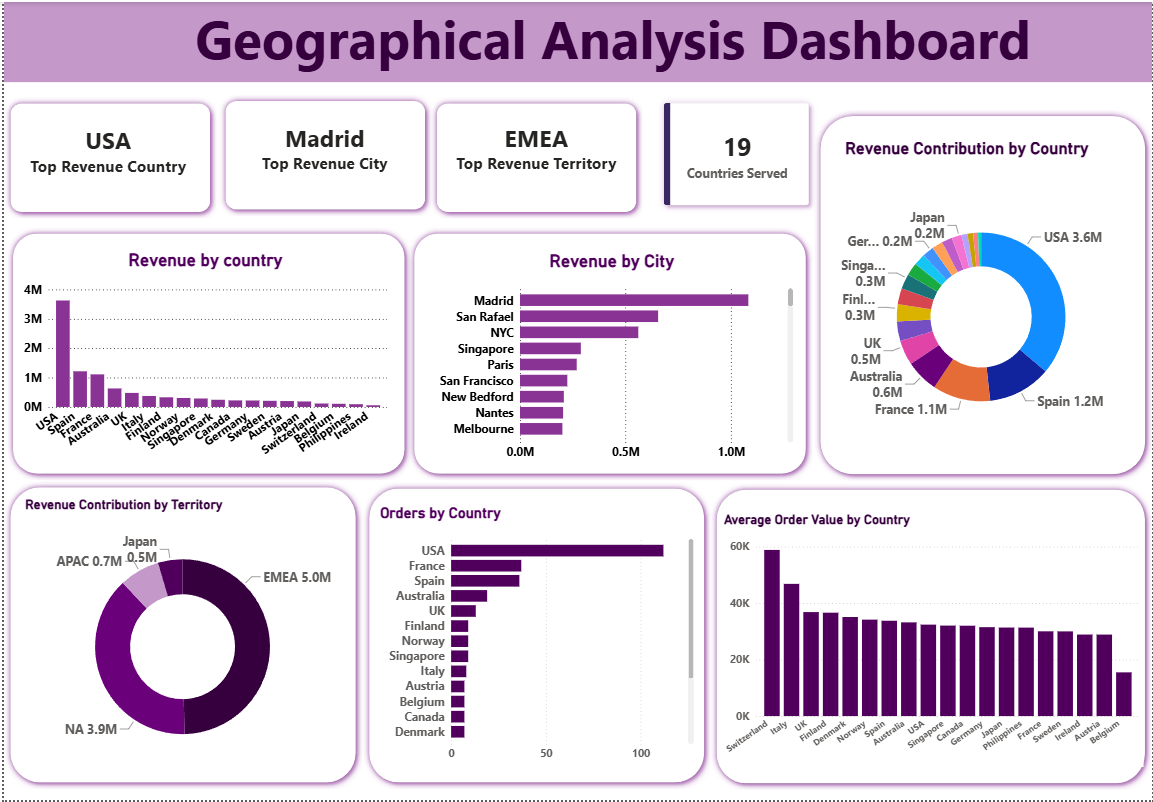

This screenshot's page, from the dashboard's own definition file:
{"tool":"powerbi","page":{"name":"Geographical Analysis Dashboard","canvas":[1582,1100],"ordinal":3},"visuals":[{"type":"textbox","box":[10,0,280,280],"z":0},{"type":"shape","box":[0,131.1,292.9,167.4],"z":1000},{"type":"shape","box":[296.5,127.3,292.9,167.4],"z":2000},{"type":"shape","box":[587.3,131.1,292.9,167.4],"z":3000},{"type":"textbox","box":[22.8,163.4,242.4,101],"z":4000},{"type":"textbox","box":[319.3,159.6,246.8,101],"z":5000},{"type":"textbox","box":[602.5,159.6,261.6,102.8],"z":6000},{"type":"cardVisual","fields":{"Data":["Measures (2).Countries Served"]},"box":[879.9,110.2,258.4,199.6],"z":7000},{"type":"shape","box":[3.8,309.8,557.4,348.8],"z":8000},{"type":"clusteredColumnChart","title":"Revenue by country","fields":{"Y":["Measures (2).Total Revenue"],"Category":["Customers.country"]},"box":[22.8,340.2,510.7,298.9],"z":9000},{"type":"shape","box":[556.8,309.8,557.4,348.8],"z":10000},{"type":"barChart","title":"Revenue by City","fields":{"Category":["Customers.city"],"Y":["Measures (2).Total Revenue"]},"box":[581.6,342.1,510.7,298.9],"z":11000},{"type":"shape","box":[0,659.5,493.4,424.7],"z":12000},{"type":"donutChart","title":"Revenue Contribution by Territory","fields":{"Category":["Customers.territory"],"Y":["Measures (2).Total Revenue"]},"box":[24.7,682.3,444.1,380.7],"z":13000},{"type":"shape","box":[494.1,661.4,479.3,422.9],"z":14000},{"type":"clusteredBarChart","title":"Orders by  Country","fields":{"Y":["Measures (2).Total Orders"],"Category":["Customers.country"]},"box":[513.1,691.8,442.3,363],"z":15000},{"type":"shape","box":[973.1,663.3,607.8,422.4],"z":16000},{"type":"columnChart","title":"Average Order Value by Country","fields":{"Y":["Measures (2).Average Order Value"],"Category":["Customers.country"]},"box":[986.4,703.2,582.8,351.1],"z":17000},{"type":"shape","box":[1115.6,148.2,465.2,511.6],"z":18000},{"type":"donutChart","title":"Revenue Contribution by Country","fields":{"Y":["Measures (2).Total Revenue"],"Category":["Customers.country"]},"box":[1153.6,188.1,385,451],"z":19000},{"type":"shape","title":"Geographical Analysis Dashboard","box":[0,0,1678.1,110.2],"z":20000}]}

Visuals, with their boxes in screenshot pixels (x1, y1, x2, y2), scaled from the page's 1582x1100 canvas onto the 1153x802 screenshot:
textbox: 7/0/211/204
shape: 0/96/213/218
shape: 216/93/430/215
shape: 428/96/642/218
textbox: 17/119/193/193
textbox: 233/116/413/190
textbox: 439/116/630/191
cardVisual - Measures (2).Countries Served: 641/80/830/226
shape: 3/226/409/480
"Revenue by country" clusteredColumnChart: 17/248/389/466
shape: 406/226/812/480
"Revenue by City" barChart: 424/249/796/467
shape: 0/481/360/790
"Revenue Contribution by Territory" donutChart: 18/497/342/775
shape: 360/482/709/791
"Orders by  Country" clusteredBarChart: 374/504/696/769
shape: 709/484/1152/792
"Average Order Value by Country" columnChart: 719/513/1144/769
shape: 813/108/1152/481
"Revenue Contribution by Country" donutChart: 841/137/1121/466
"Geographical Analysis Dashboard" shape: 0/0/1152/80
